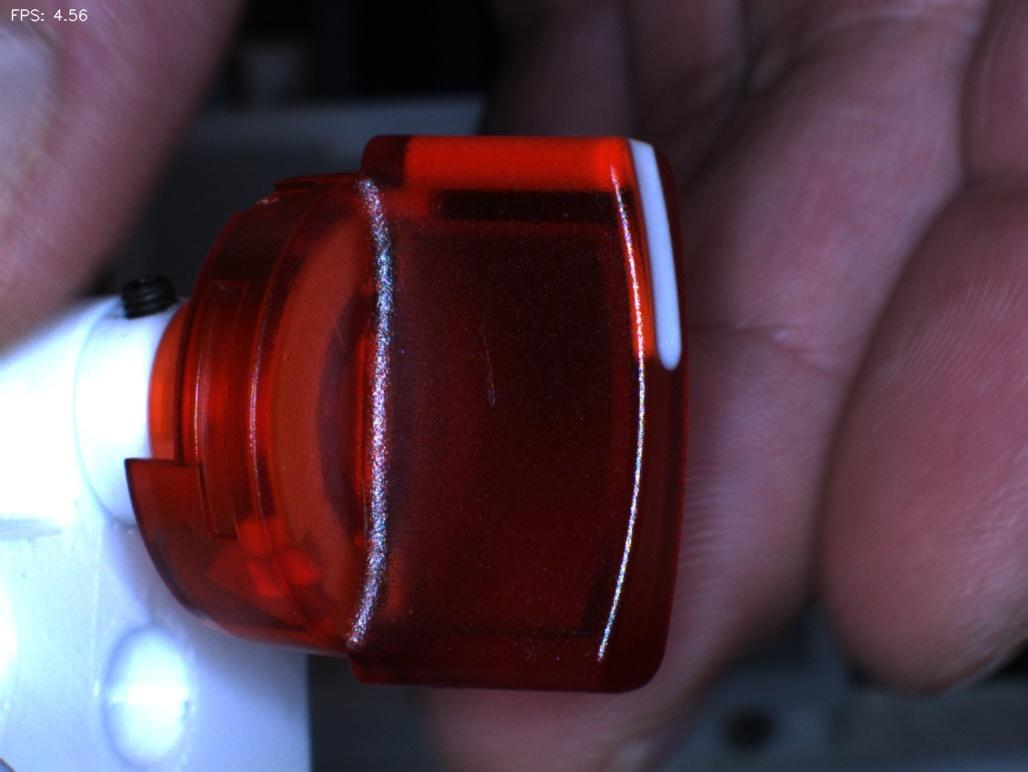Givrage: (448, 273, 524, 421)
